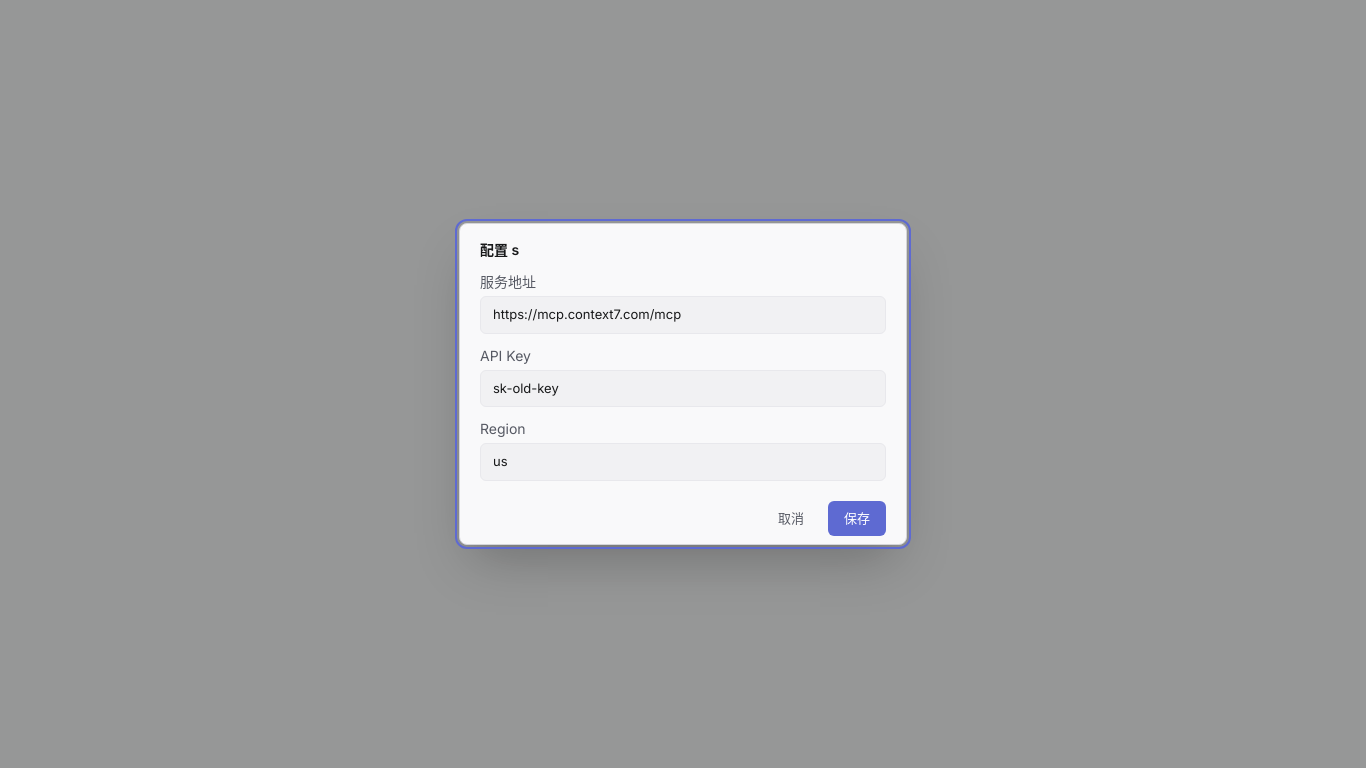
Scenario: McpConfigDialog — schema 模式回显（D9） › 多 required 字段 → 缺一禁提交；全填恢复（Task 7 复审补强）
Expected: the button "保存" is enabled, [828,500,886,536]
# 清空 apiKey → 仍缺 region 的 required，disabled
Clear the field labelled "API Key". click: (683, 388)
box: [480,370,886,407]
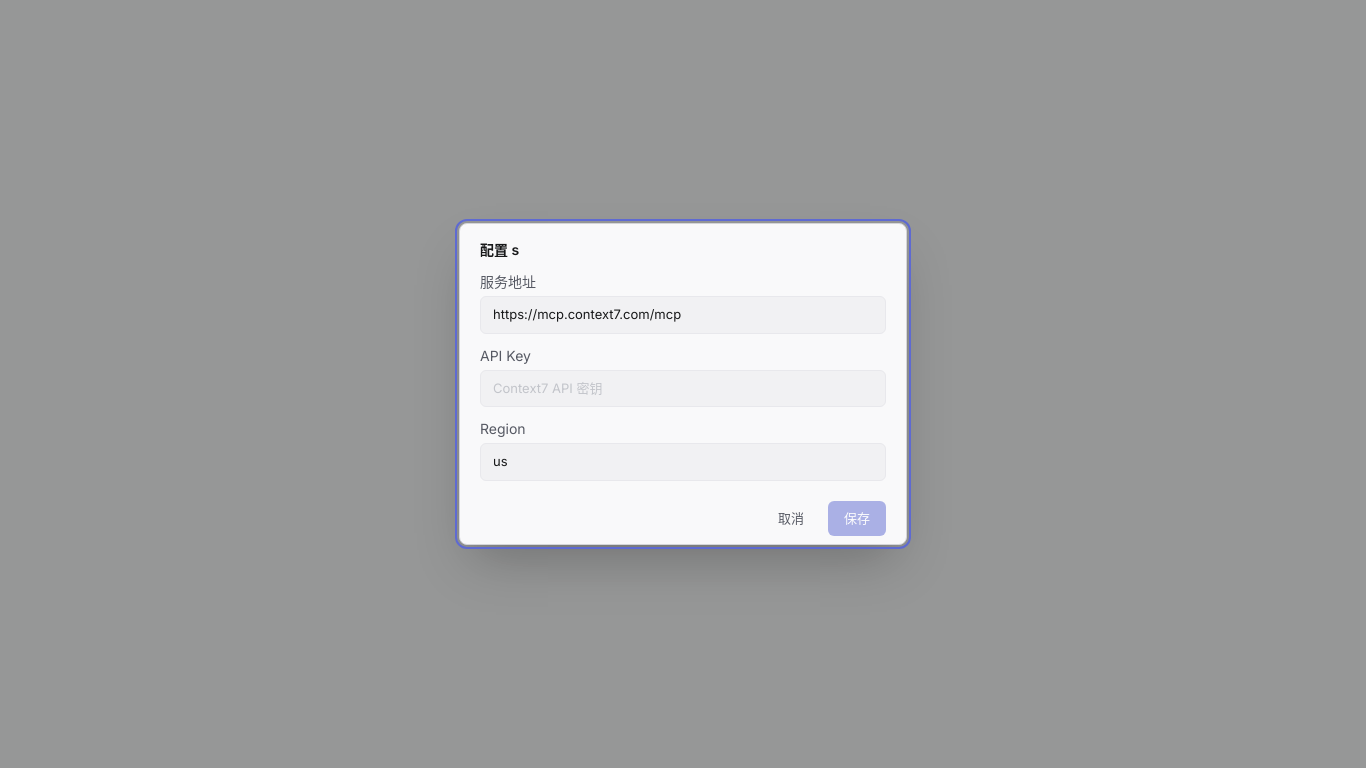
Result: the button "保存" is disabled at [828,500,886,536]
# 补 apiKey 但清空 region → 仍缺任一 required，disabled
Type "sk-new" into the field labelled "API Key". click: (683, 388)
box: [480,370,886,407]
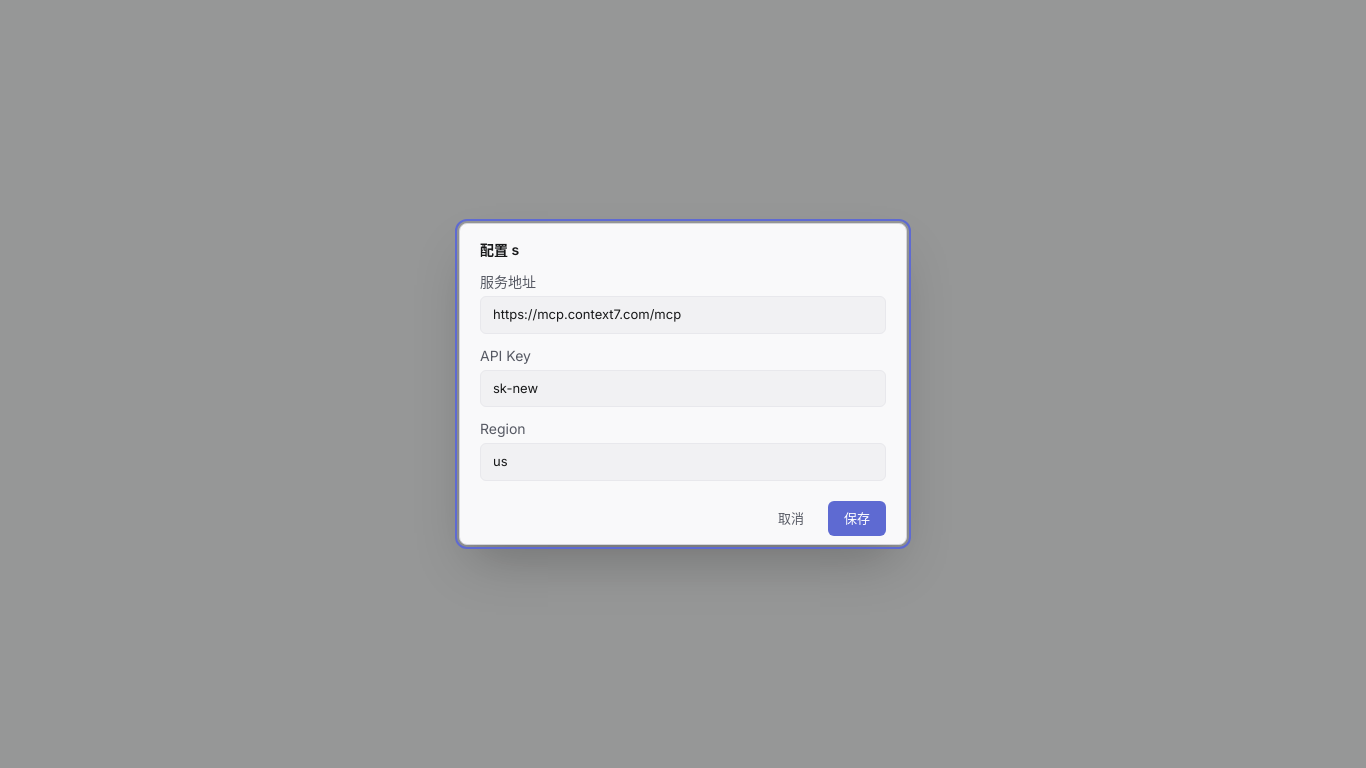
Clear the field labelled "Region". click: (683, 462)
box: [480,443,886,480]
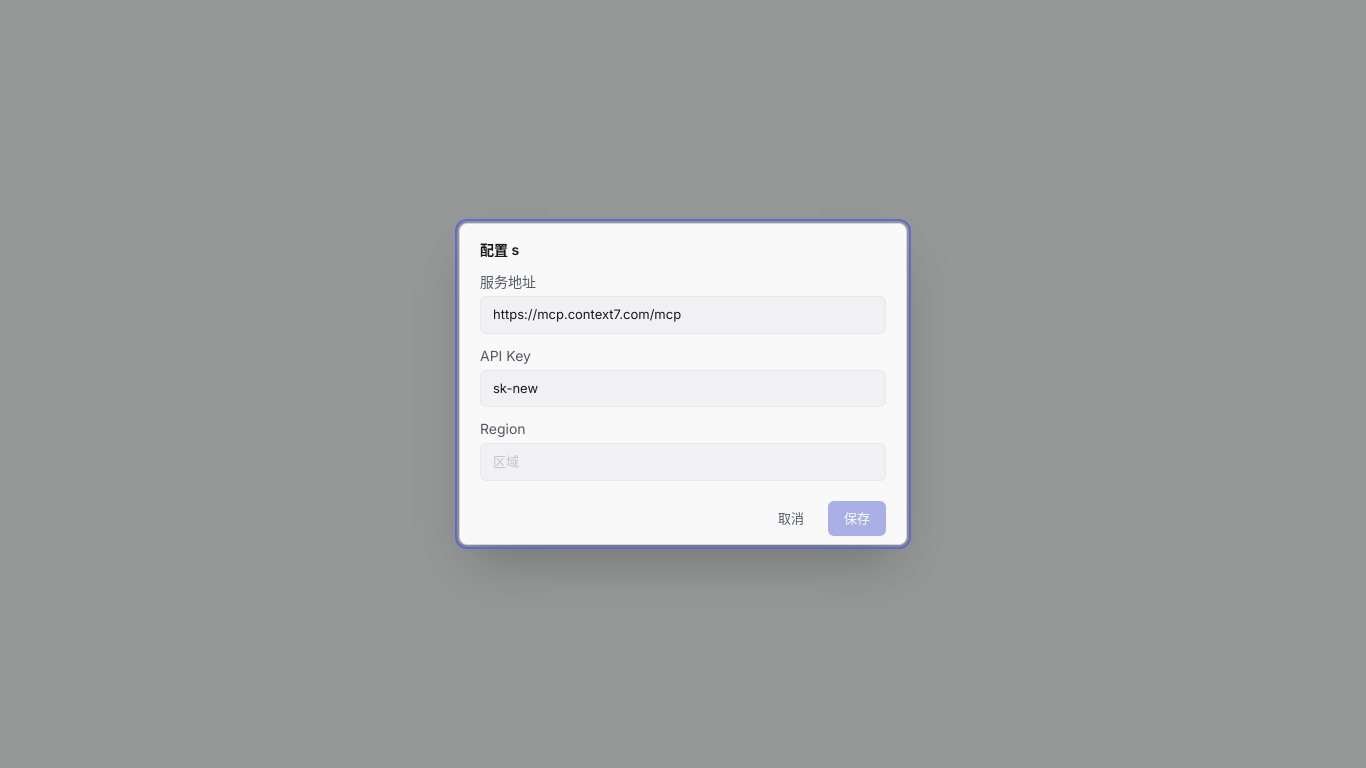
Result: the button "保存" is disabled at [828,500,886,536]
# 补 region → 全填，enabled
Type "eu" into the field labelled "Region". click: (683, 462)
box: [480,443,886,480]
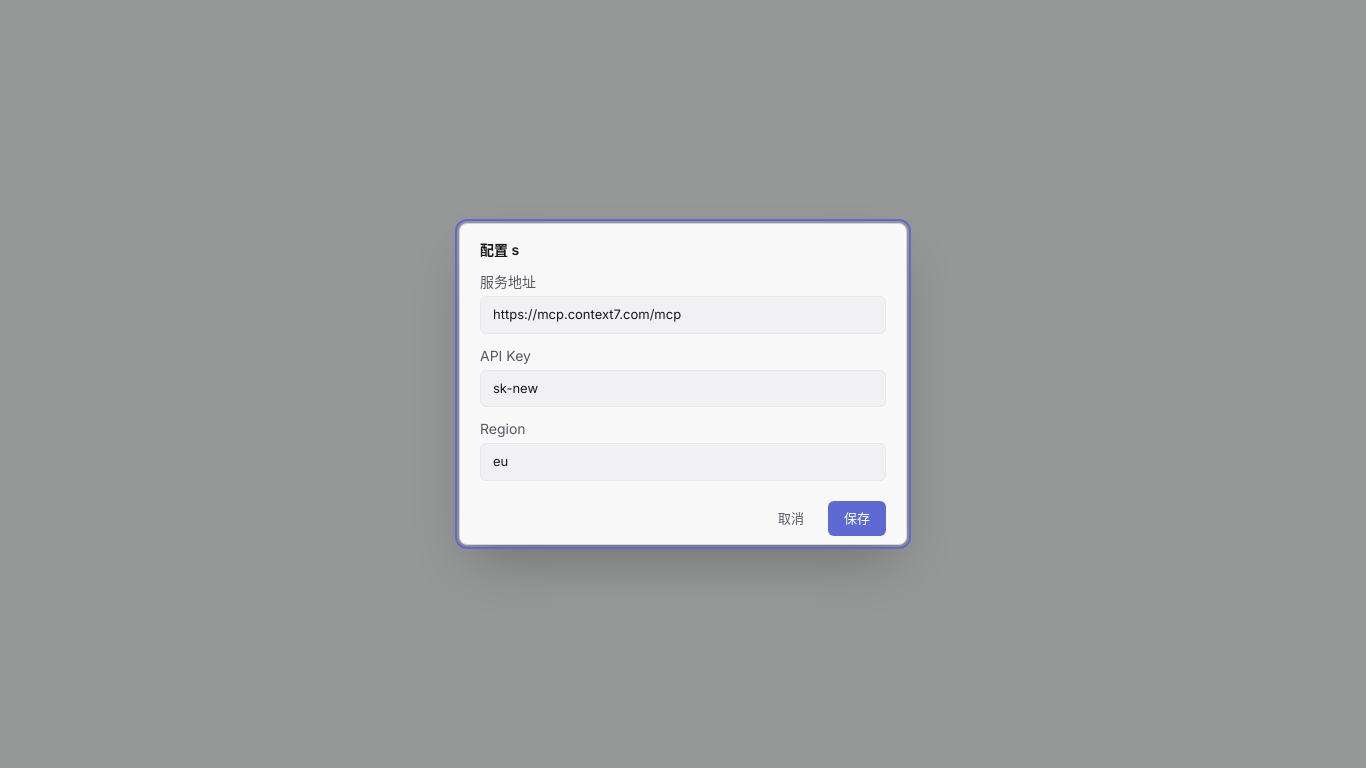
Result: the button "保存" is enabled at [828,500,886,536]
